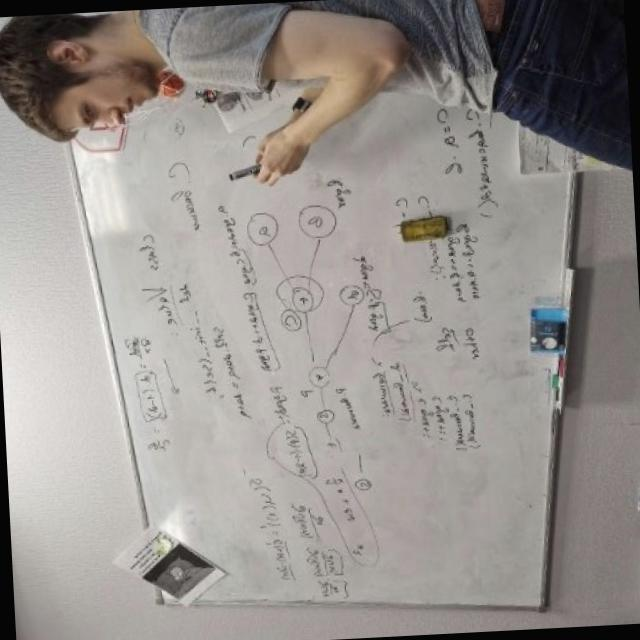Instructor: (0, 0, 631, 172)
White-board: (40, 0, 589, 603)
